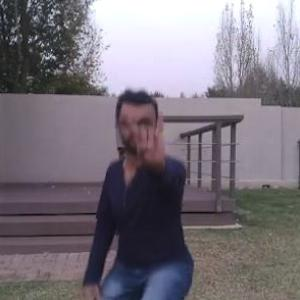takeoff-hand: (122, 98, 176, 170)
